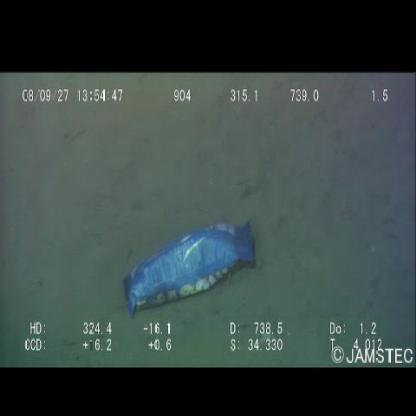Rác: (119, 210, 263, 324)
